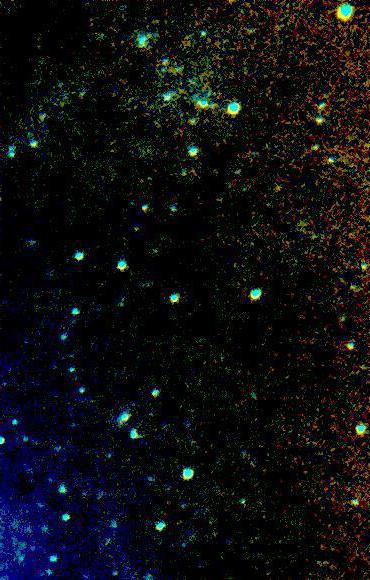star: (263, 172, 293, 202)
